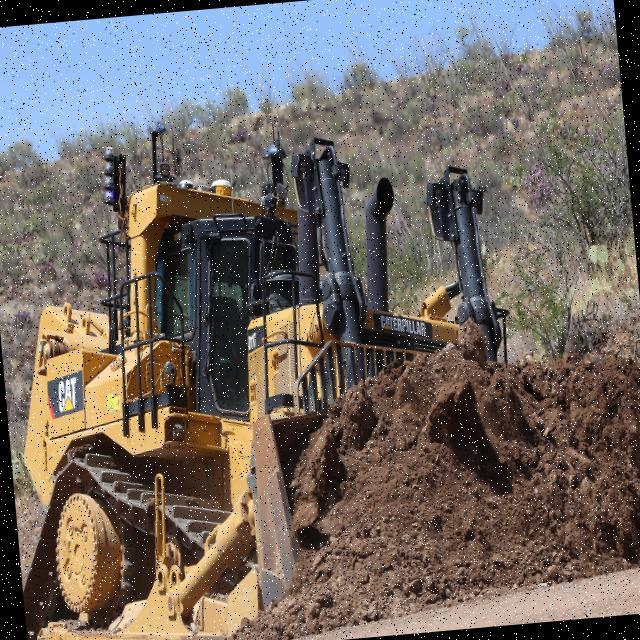Bulldozer: (0, 114, 545, 640)
